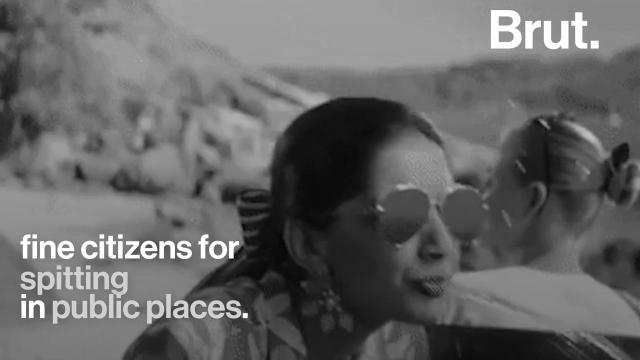spit: (307, 96, 634, 360)
